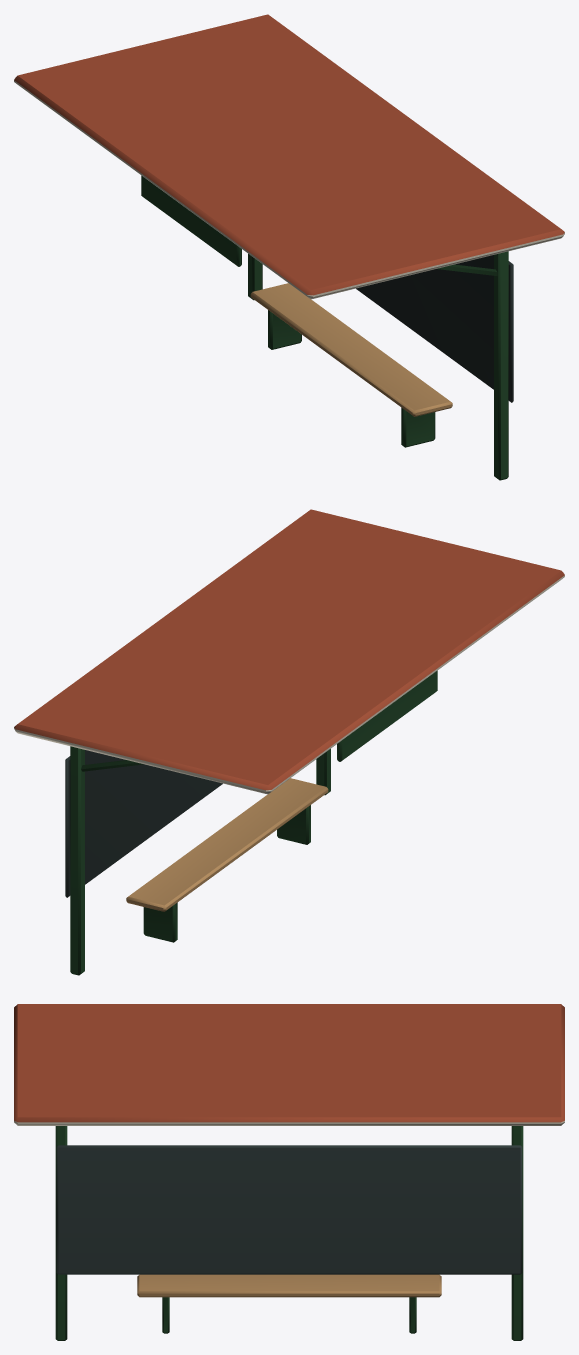
Rendered from station_shelter.glb.
3 views of the same model, one above another, from view 1: azimuth 30°, elevation 25°; view 2: azimuth 150°, elevation 25°; view 3: azimuth 270°, elevation 25° (orthographic). The views are drawn at different scales.
Parts seen in each view (by area): view 1: station_shelter_mesh; view 2: station_shelter_mesh; view 3: station_shelter_mesh.
Boxes of the visible parts, x1,y1,x2,y2 form: station_shelter_mesh: [14, 14, 564, 480]; station_shelter_mesh: [14, 509, 564, 975]; station_shelter_mesh: [14, 1004, 564, 1340].
Size of the model in its own units: 2.9 by 2.77 by 5.8.
